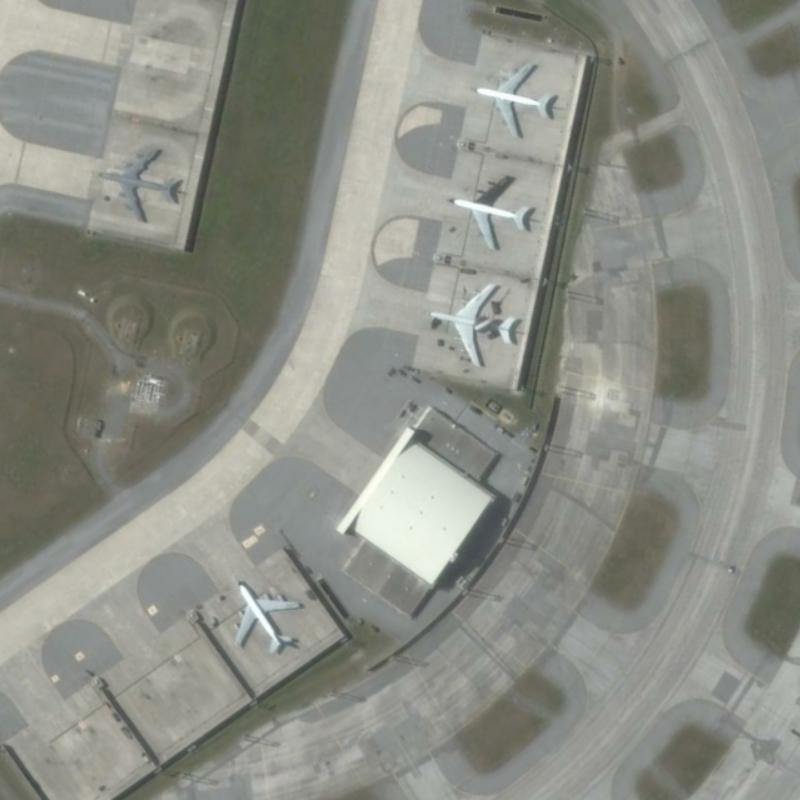A11: (436, 168, 537, 258), (465, 54, 562, 142), (224, 569, 308, 660)
A14: (86, 138, 186, 227)
A7: (419, 272, 523, 371)
